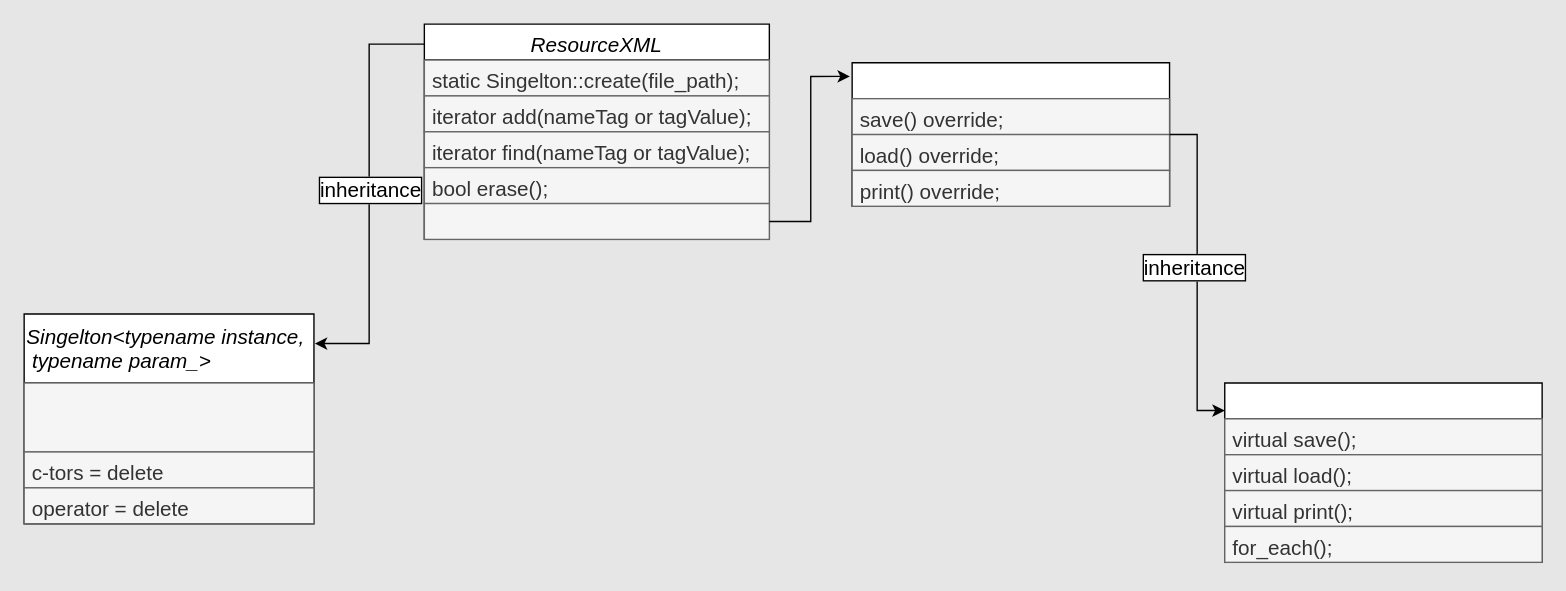
Image size: 1566x591. Some labels were removed from this diagram. Here are the shapes that lost their labels. From the top down, the box of each, then its label:
(851, 61, 1170, 206): ProcessorXML
(423, 202, 769, 239): ProcessorXML* processorXML;
(23, 382, 314, 452): virtual static instance create (param_ param);
(1223, 382, 1542, 562): ProcessorInterface
